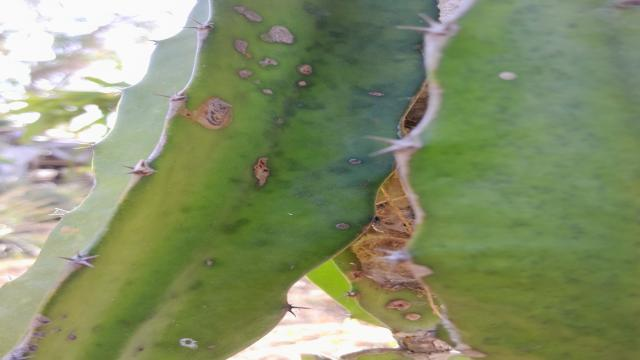stemcanker: (174, 92, 238, 134), (229, 1, 268, 28), (260, 22, 298, 48), (250, 153, 273, 195), (231, 36, 252, 61), (257, 54, 281, 71), (296, 62, 317, 78), (235, 66, 256, 82)
